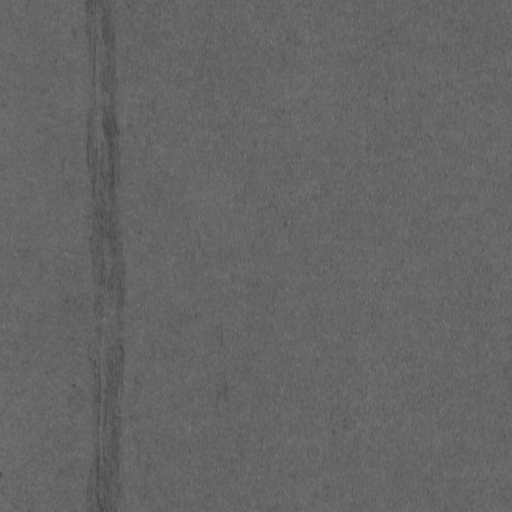zongxianghuashang: (82, 1, 120, 512)
